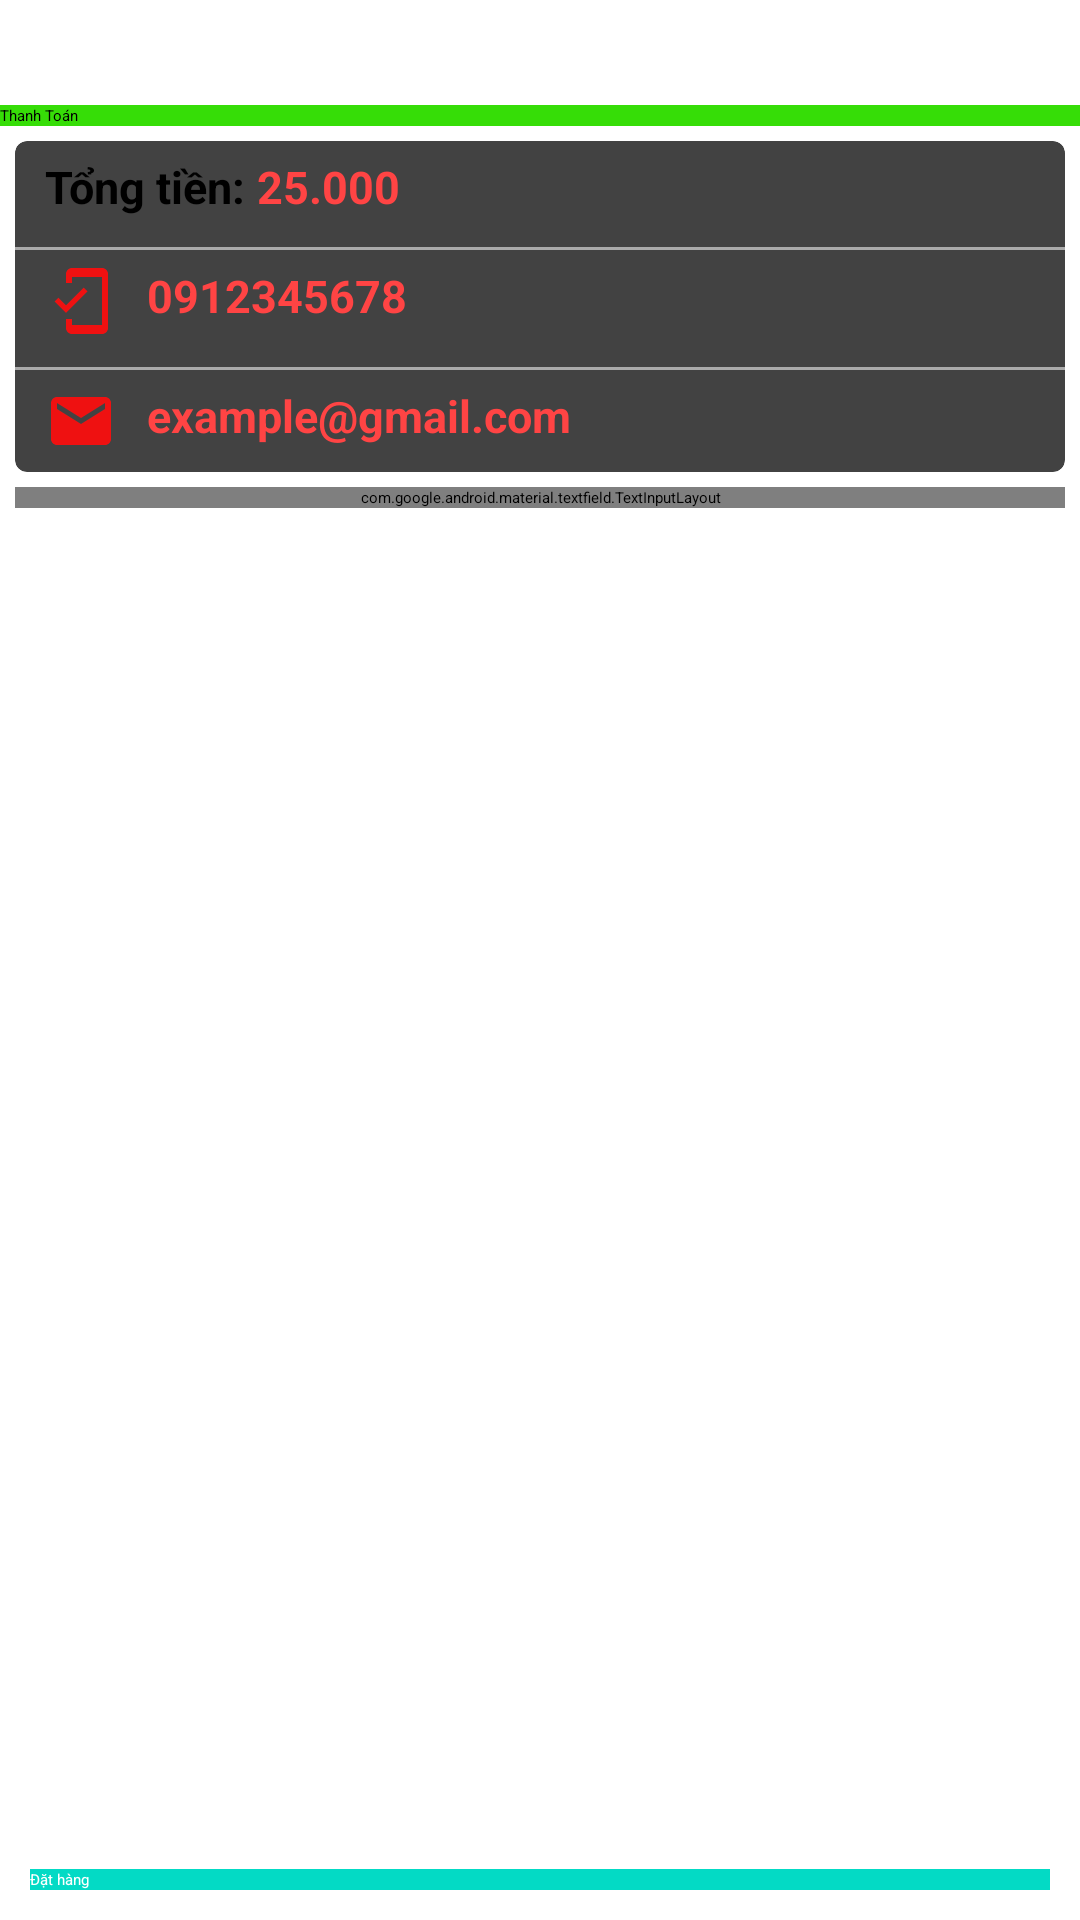

Where to tap for icons on this 1080×1920 app screen, as point (x, y):
email: point (81, 421)
mobile friendly: point (81, 301)
